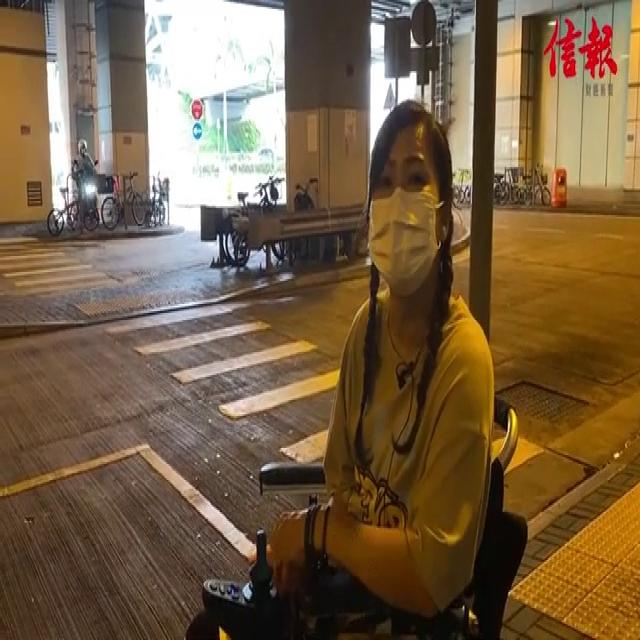wheelchairs: (183, 368, 537, 640)
